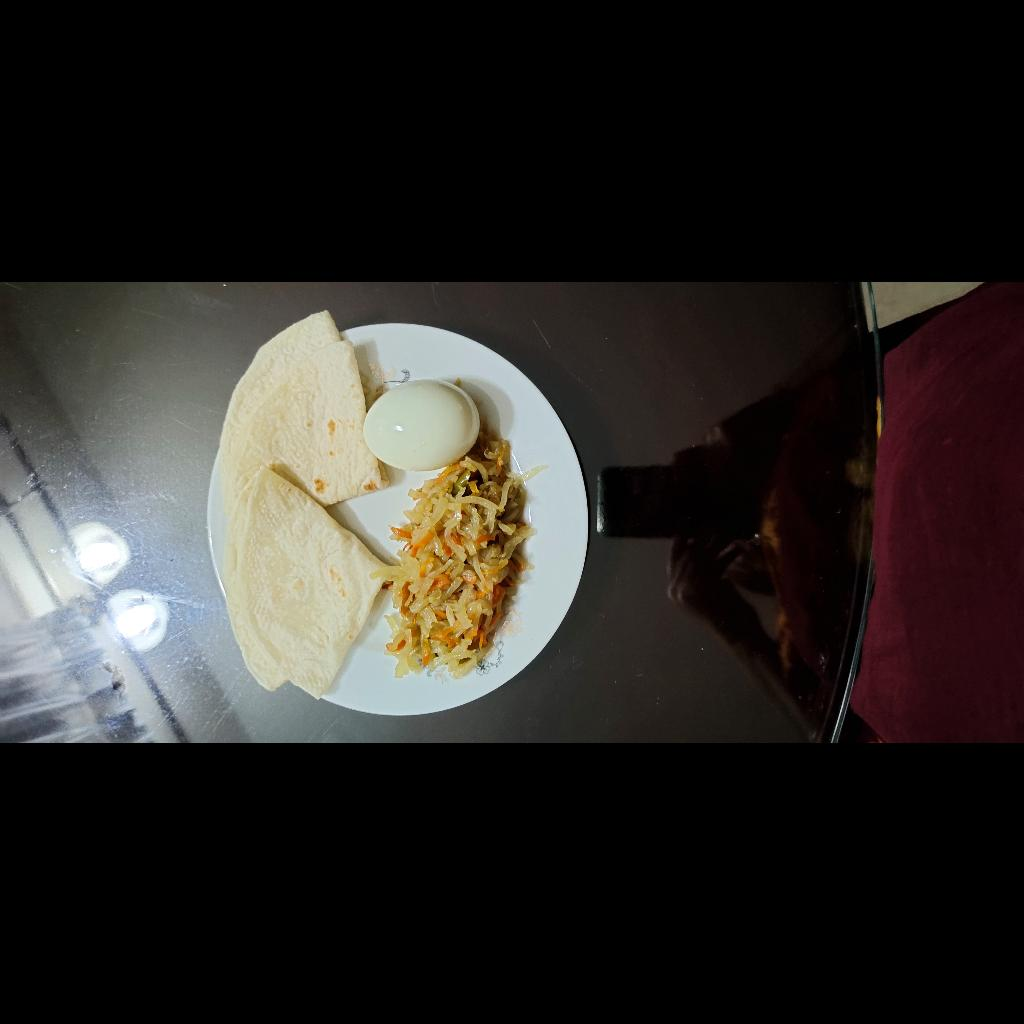egg-poached: (274, 647, 363, 761)
ruti: (41, 505, 440, 676)
vegetable: (59, 651, 305, 827)
